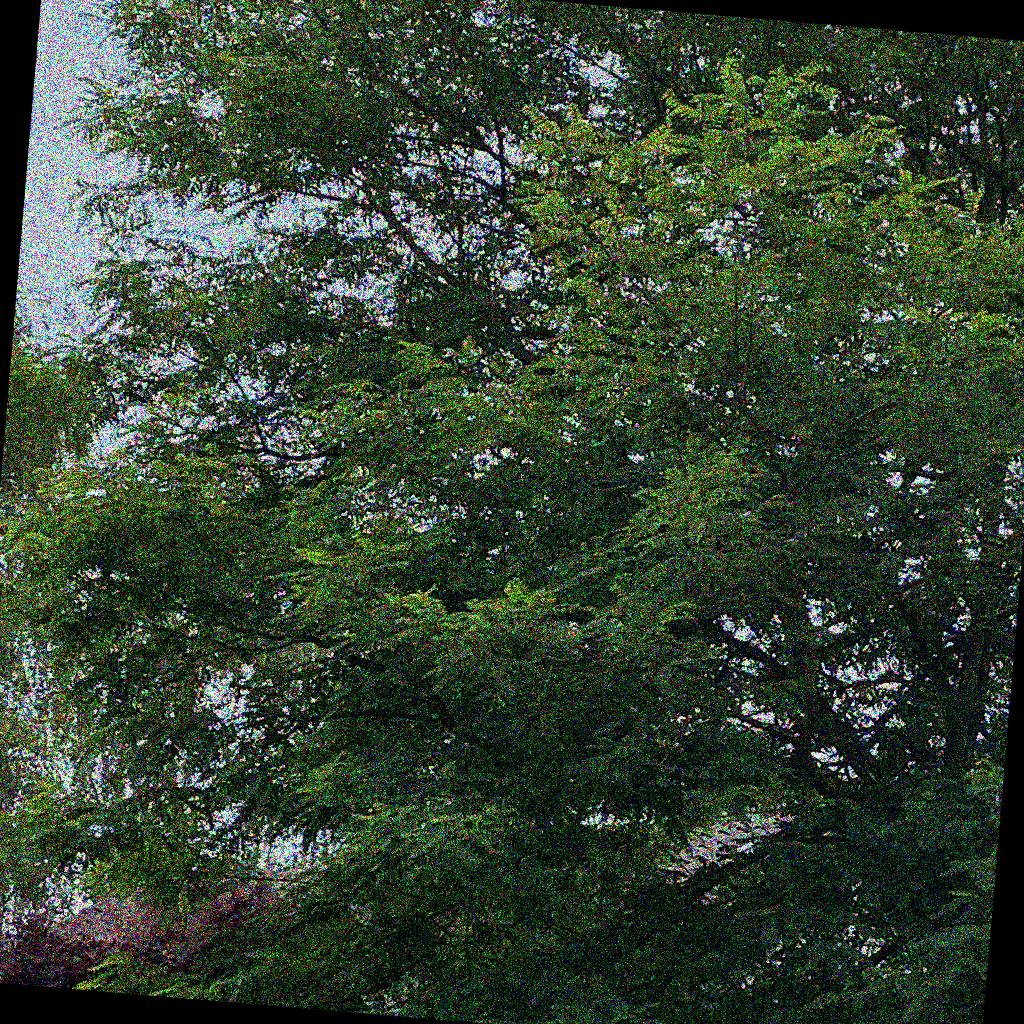tree: (1, 1, 1023, 1023), (1, 865, 286, 988)
